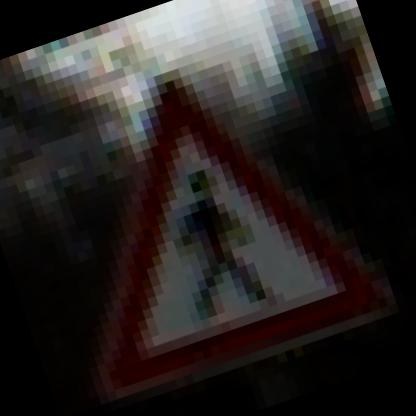crosswalk: (0, 24, 411, 415)
